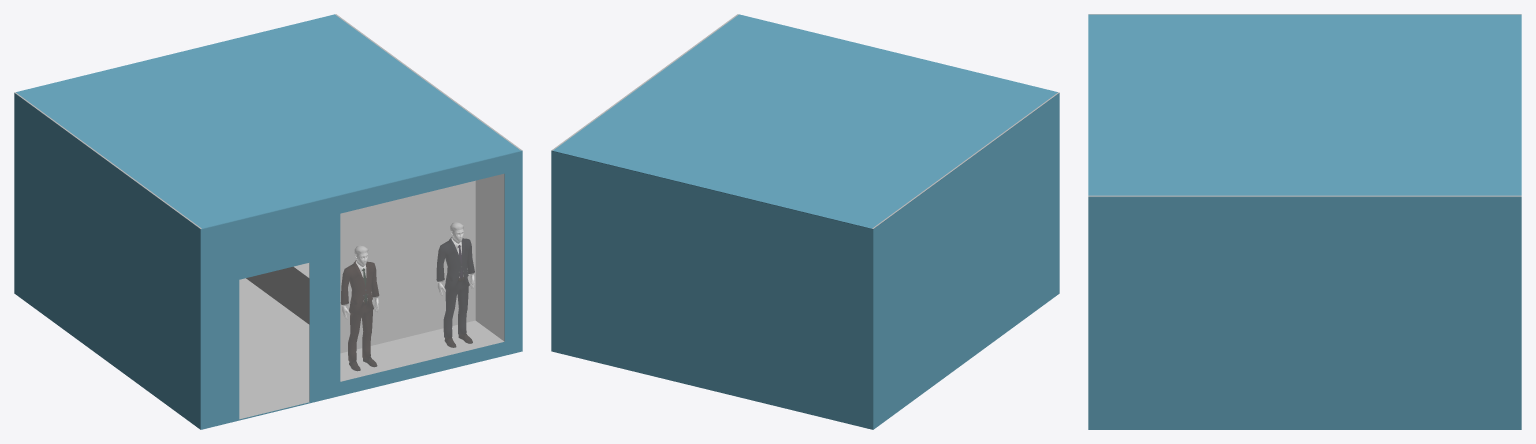
File: colth_shop.fbx
The picture shows the model from 3 angles, left to right: view 1: azimuth 30°, elevation 25°; view 2: azimuth 150°, elevation 25°; view 3: azimuth 270°, elevation 25°; orthographic projection. The views are drawn at different scales.
Parts seen in each view (by area): view 1: Cube010_0; view 2: Cube010_0; view 3: Cube010_0.
Boxes of the visible parts, x1,y1,x2,y2 form: Cube010_0: (14, 14, 522, 429); Cube010_0: (551, 14, 1059, 429); Cube010_0: (1088, 14, 1521, 429).
Size of the model in its own units: 5.05 by 3.01 by 5.06.
